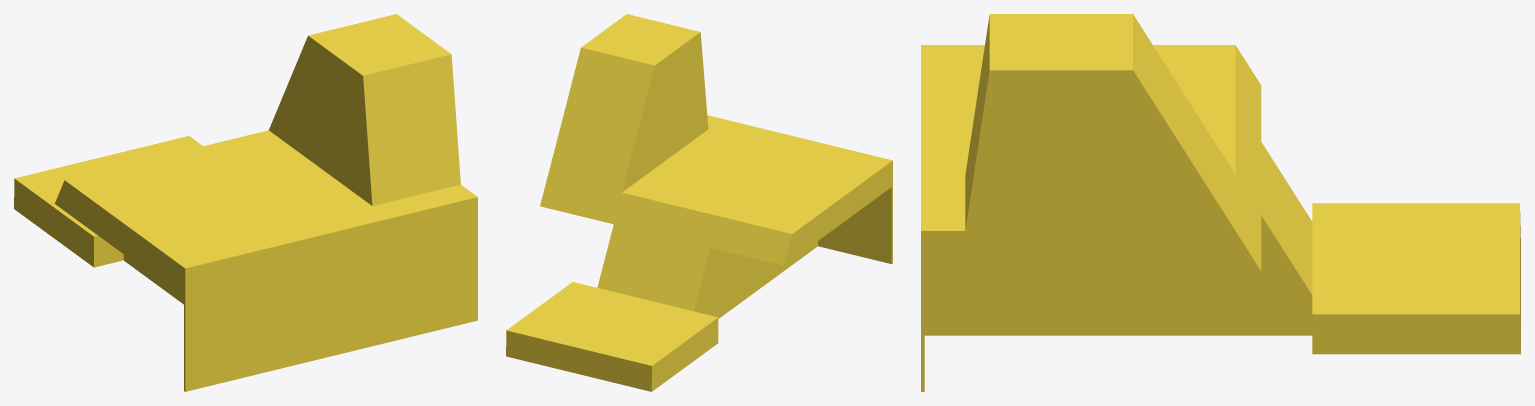
Rendered from body.dae.
The picture shows the model from 3 angles, left to right: view 1: azimuth 30°, elevation 25°; view 2: azimuth 150°, elevation 25°; view 3: azimuth 270°, elevation 25°; orthographic projection. The views are drawn at different scales.
Visible parts, largest first — view 1: node0; view 2: node0; view 3: node0.
Boxes of the visible parts, x1,y1,x2,y2 form: node0: (14,14,477,391); node0: (506,14,892,391); node0: (921,14,1520,391).
Size of the model in its own units: 4.96 by 6.76 by 4.
